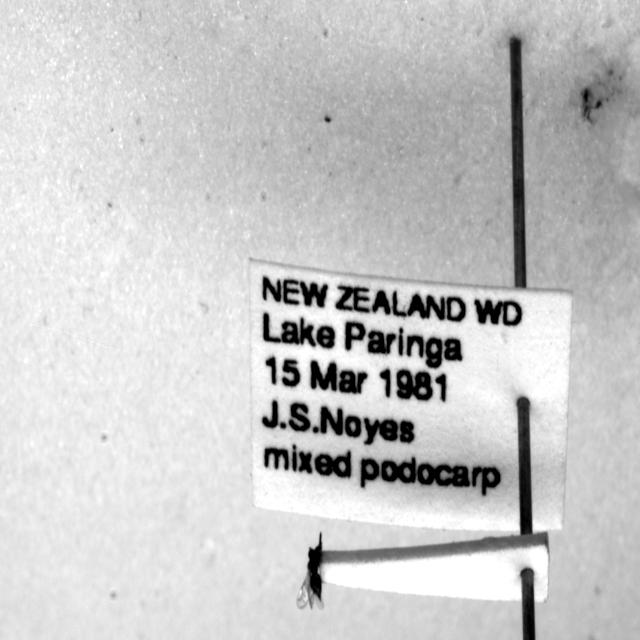typed_label: (250, 261, 571, 532)
